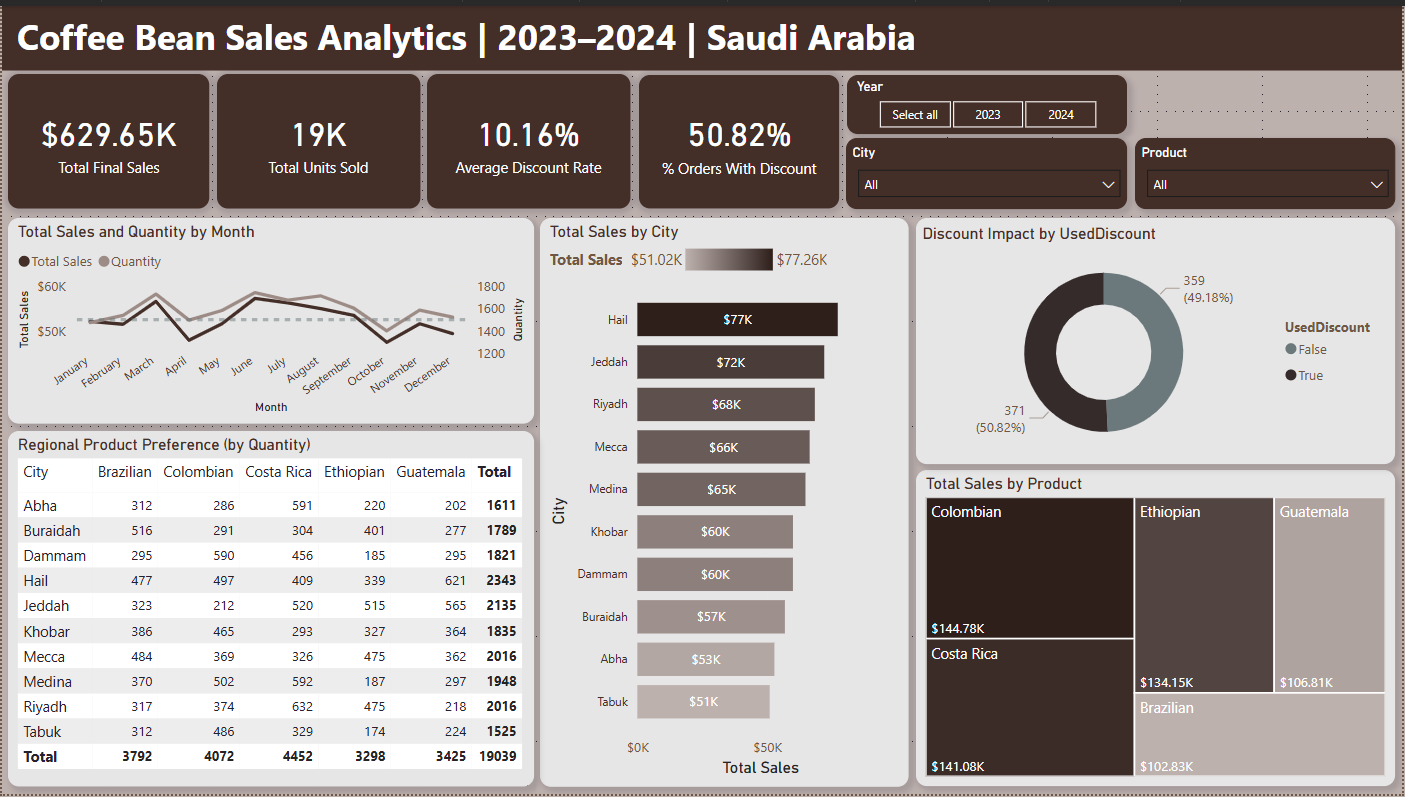

The page's visual inventory and layout, read from the dashboard file:
{"tool":"powerbi","page":{"name":"Dashboard","canvas":[1280,720],"ordinal":0},"visuals":[{"type":"card","fields":{"Values":["_Measures.Total Final Sales"]},"box":[5.6,62.2,184.4,123.3],"z":0},{"type":"card","fields":{"Values":["_Measures.Total Units Sold"]},"box":[196.7,62.2,185.6,123.3],"z":1000},{"type":"card","fields":{"Values":["_Measures.Average Discount Rate"]},"box":[388.9,62.2,185.6,123.3],"z":2000},{"type":"card","fields":{"Values":["_measures.% Orders With Discount"]},"box":[582.2,63.3,183.3,122.2],"z":3000},{"type":"slicer","title":"Year","fields":{"Values":["coffee sales data.SaleYear"]},"box":[773,63,256,54],"z":4000},{"type":"slicer","title":"City","fields":{"Values":["coffee sales data.City"]},"box":[771.8,120.9,257.3,64.5],"z":5000},{"type":"slicer","title":"Product","fields":{"Values":["coffee sales data.Product"]},"box":[1035.5,120.9,238.2,64.5],"z":6000},{"type":"textbox","box":[0,0,1280,58.5],"z":7000},{"type":"lineChart","fields":{"Y":["_measures.Total Final Sales"],"Category":["coffee sales data.Date.Variation.Date Hierarchy.Year","coffee sales data.Date.Variation.Date Hierarchy.Month","coffee sales data.Date.Variation.Date Hierarchy.Day"],"Y2":["Sum(coffee sales data.Quantity)"]},"box":[5.3,193.5,480.6,187.6],"z":8000},{"type":"clusteredBarChart","fields":{"Y":["_measures.Total Final Sales"],"Category":["coffee sales data.City"]},"box":[491.8,193.6,337.3,520],"z":9000},{"type":"treemap","fields":{"Values":["_measures.Total Final Sales"],"Group":["coffee sales data.Product"]},"box":[835.5,424.5,438.2,289.1],"z":10000},{"type":"donutChart","fields":{"Y":["CountNonNull(coffee sales data.SaleId)"],"Series":["coffee sales data.UsedDiscount"]},"box":[835.5,193.6,438.2,224.5],"z":11000},{"type":"pivotTable","title":"Regional Product Preference (by Quantity)","fields":{"Columns":["coffee sales data.Product"],"Rows":["coffee sales data.City"],"Values":["Sum(coffee sales data.Quantity)"]},"box":[5.3,388.2,480.6,325.3],"z":12000},{"type":"textbox","box":[1053.3,22.9,226.7,35.7],"z":12001}]}

Visuals, with their boxes in screenshot pixels (x1, y1, x2, y2), scaled from the page's 1280x720 canvas onto the 1405x797 screenshot:
card - _Measures.Total Final Sales: (6,69,209,205)
card - _Measures.Total Units Sold: (216,69,420,205)
card - _Measures.Average Discount Rate: (427,69,631,205)
card - _measures.% Orders With Discount: (639,70,840,205)
"Year" slicer: (848,70,1129,130)
"City" slicer: (847,134,1130,205)
"Product" slicer: (1137,134,1398,205)
textbox: (0,0,1404,65)
lineChart - _measures.Total Final Sales x coffee sales data.Date.Variation.Date Hierarchy.Year: (6,214,533,422)
clusteredBarChart - _measures.Total Final Sales x coffee sales data.City: (540,214,910,790)
treemap - _measures.Total Final Sales x coffee sales data.Product: (917,470,1398,790)
donutChart - CountNonNull(coffee sales data.SaleId) x coffee sales data.UsedDiscount: (917,214,1398,463)
"Regional Product Preference (by Quantity)" pivotTable: (6,430,533,790)
textbox: (1156,25,1404,65)
